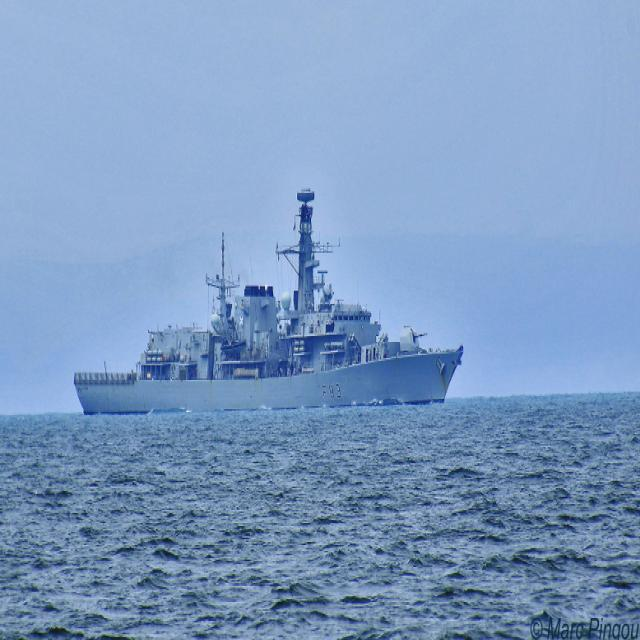Fragata: (73, 182, 466, 418)
